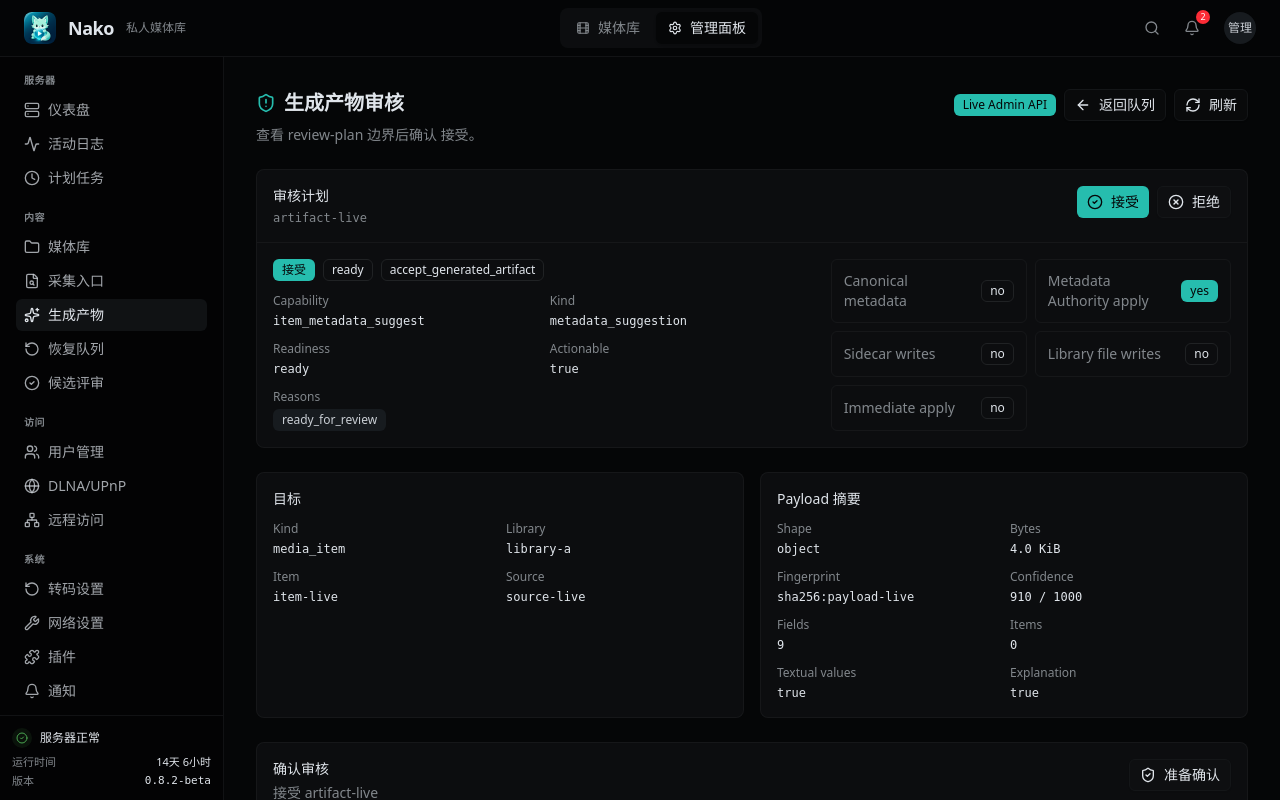
it: route state contracts › runs live Admin generated artifact review through review-plan and confirmed mutation
The image size is (1280, 800).
Expected: the text "artifact-live" is shown, [273, 210, 367, 226]
Expected: the text "Metadata Authority apply" is shown, [1048, 271, 1149, 310]
Click the button "准备确认" at [1180, 775], box [1129, 759, 1231, 791]
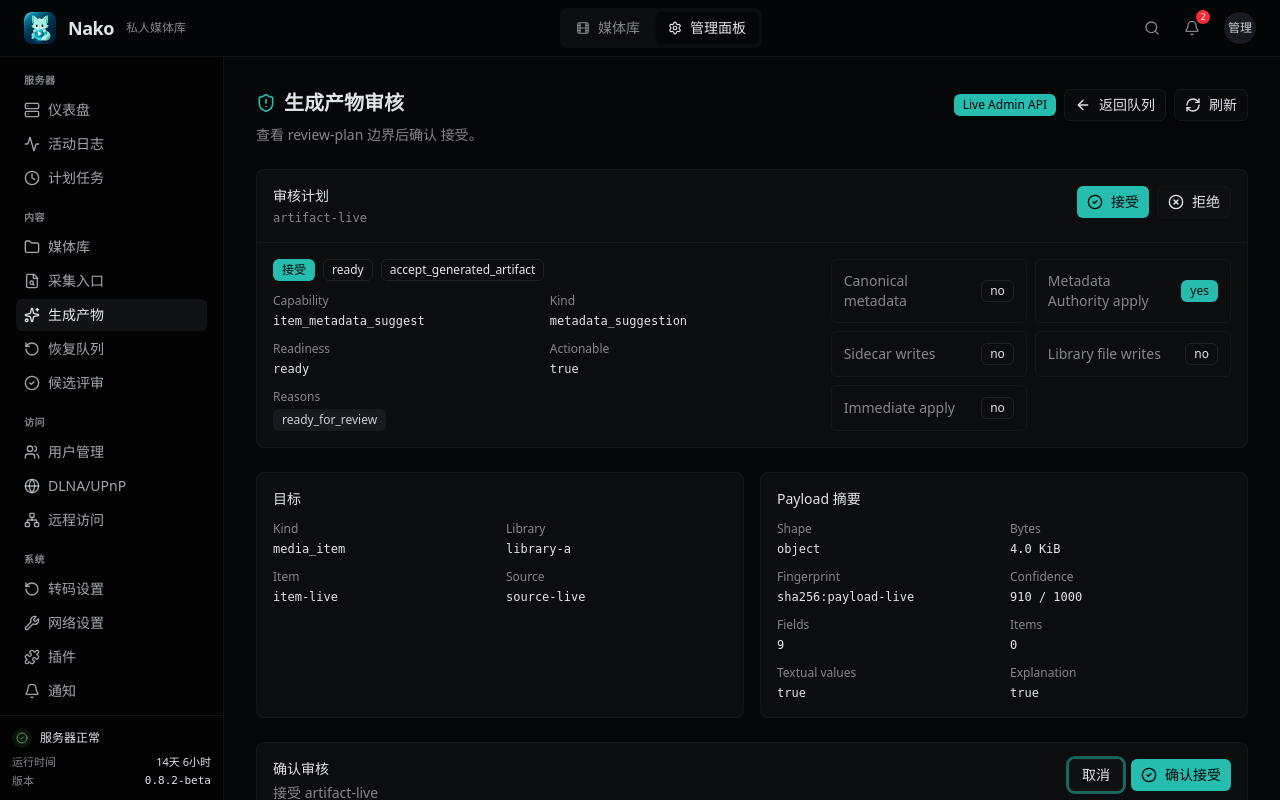
Click the button "确认接受" at [1181, 775], box [1131, 759, 1231, 791]
(page scrolled)
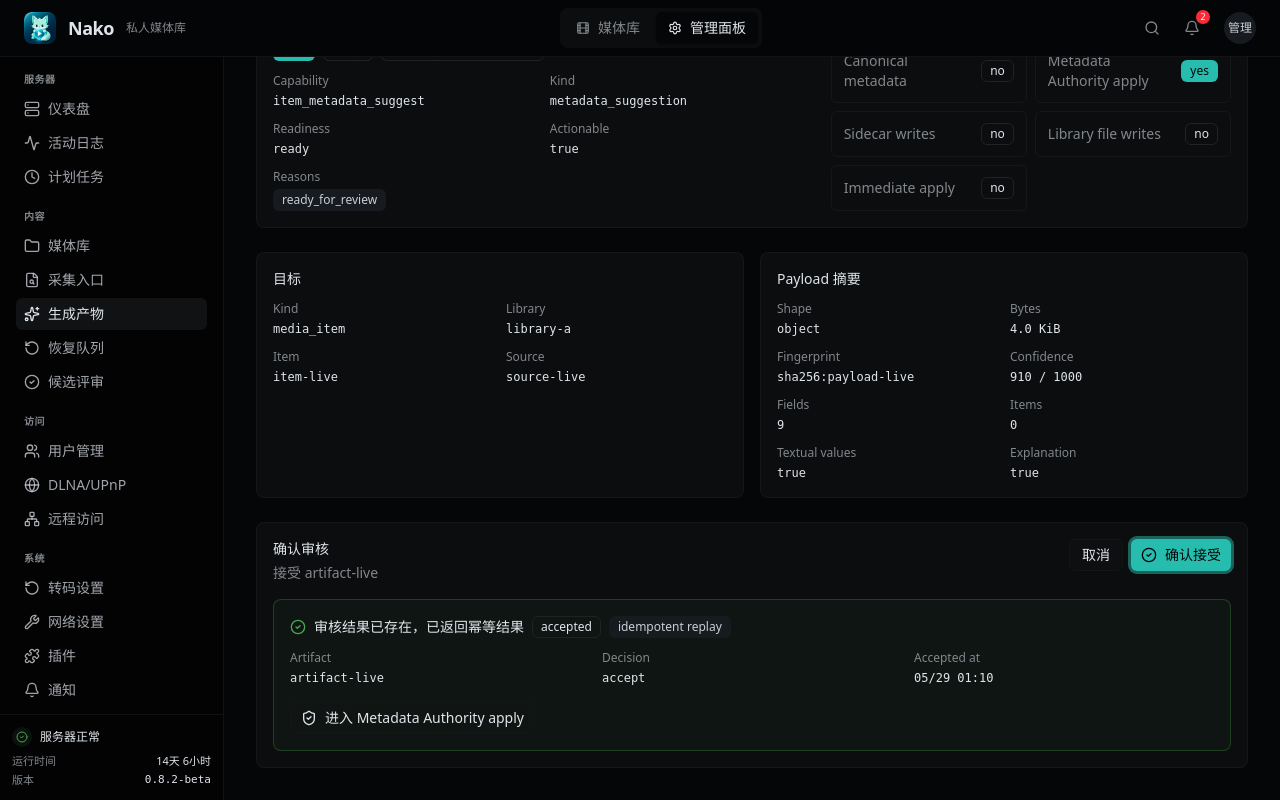
Result: the text "idempotent replay" is shown at [609, 616, 731, 638]
Result: the text "accepted" is shown at [532, 616, 601, 638]
